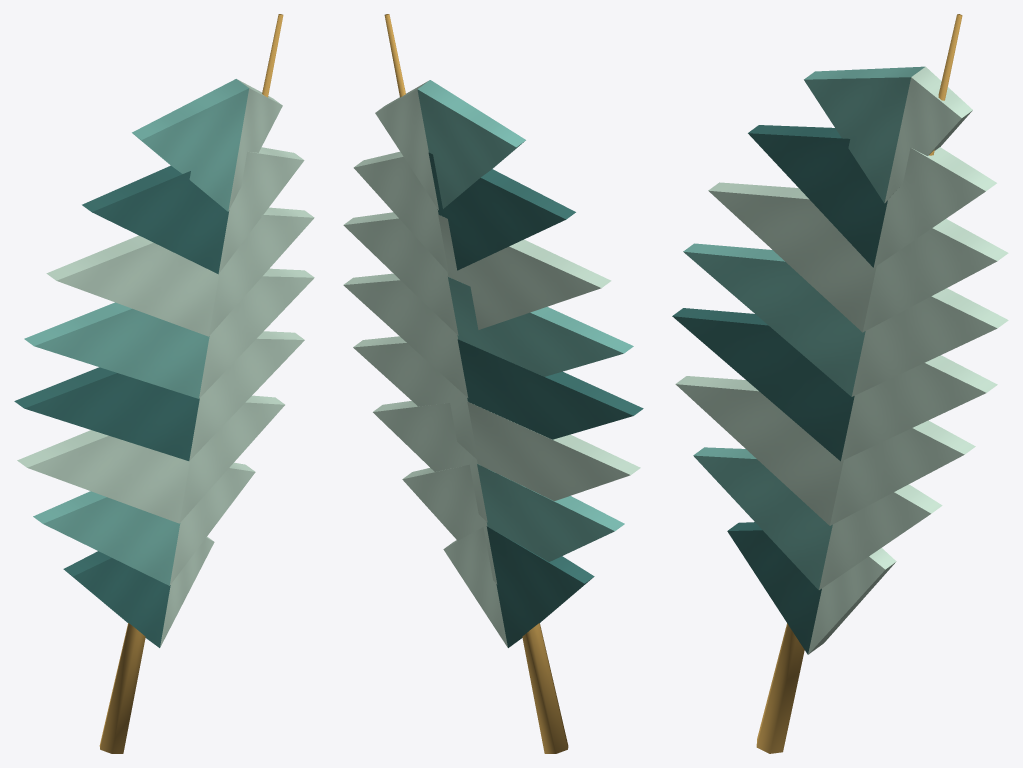
File: feather.glb
3 views of the same model, side by side, from view 1: azimuth 30°, elevation 25°; view 2: azimuth 150°, elevation 25°; view 3: azimuth 330°, elevation 25° (orthographic). The views are drawn at different scales.
Visible parts, largest first — view 1: feather; view 2: feather; view 3: feather.
Part boxes in pixels (left/top/right/bottom): feather: left=14, top=14, right=314, bottom=753; feather: left=343, top=14, right=643, bottom=753; feather: left=672, top=14, right=1008, bottom=753.
Size of the model in its own units: 0.5836 by 1.34 by 0.06.
Materials: 1 (1 with a texture image).
